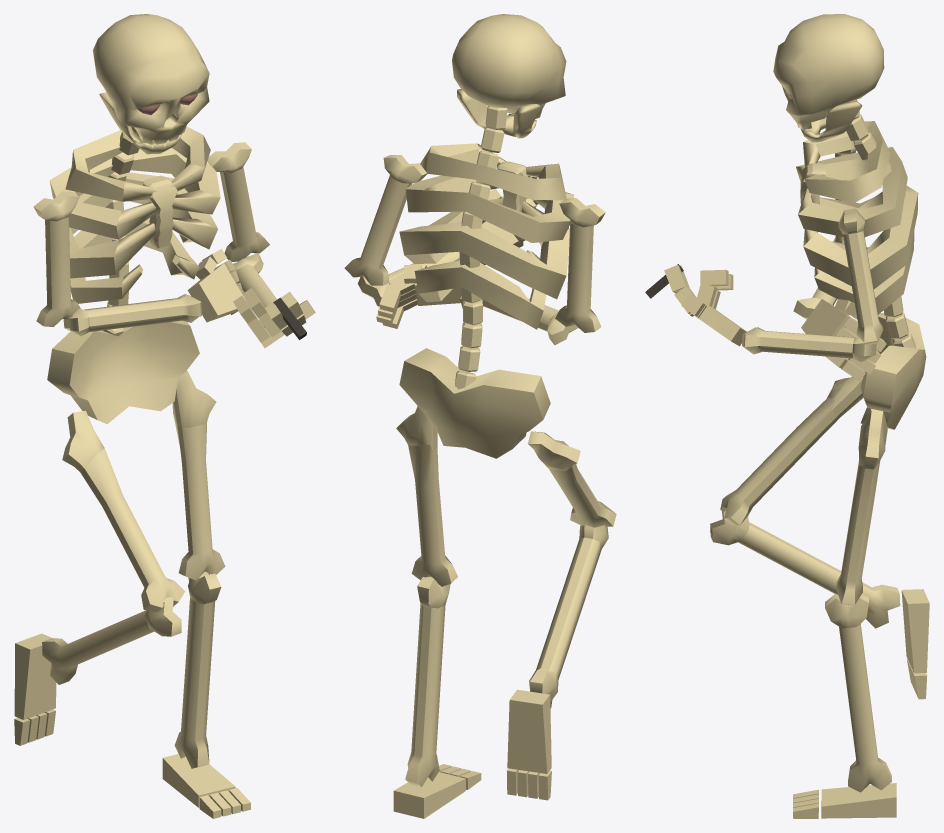
The model's file is skeleton_STONER_frame02.fbx.
The picture shows the model from 3 angles, left to right: view 1: azimuth 30°, elevation 25°; view 2: azimuth 150°, elevation 25°; view 3: azimuth 270°, elevation 25°; orthographic projection. The views are drawn at different scales.
Parts seen in each view (by area): view 1: skeleton_stoner_frame2; view 2: skeleton_stoner_frame2; view 3: skeleton_stoner_frame2.
Boxes of the visible parts, x1=… form: skeleton_stoner_frame2: x1=14, y1=14, x2=315, y2=818; skeleton_stoner_frame2: x1=344, y1=14, x2=616, y2=818; skeleton_stoner_frame2: x1=645, y1=14, x2=929, y2=818.
Size of the model in its own units: 56.71 by 176 by 59.77.
